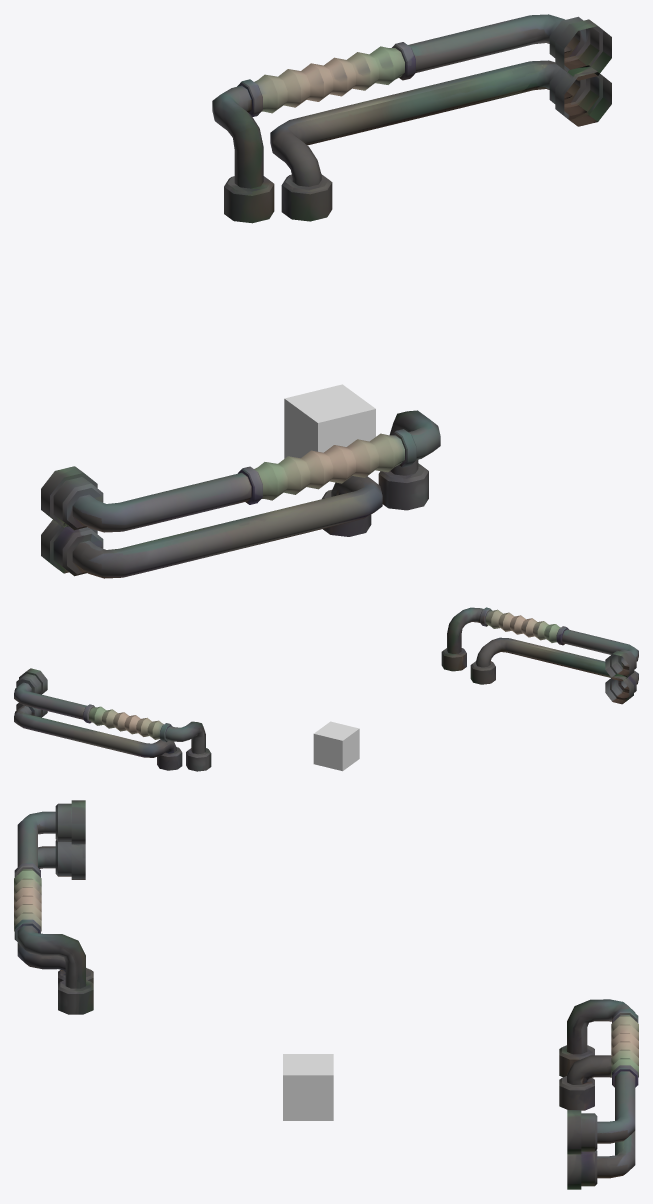
The model's file is battlescence-4-pipe1.fbx.
3 renders of one model, top to bottom at view 1: azimuth 30°, elevation 25°; view 2: azimuth 150°, elevation 25°; view 3: azimuth 270°, elevation 25°, orthographic. The views are drawn at different scales.
Parts seen in each view (by area): view 1: Plane.039, Plane.044, battlescence-4-pipe1; view 2: Plane.044, Plane.039, battlescence-4-pipe1; view 3: Plane.039, Plane.044, battlescence-4-pipe1.
Boxes of the visible parts, left/top/right/bottom form: Plane.039: left=212, top=14, right=611, bottom=223; Plane.044: left=41, top=410, right=440, bottom=578; battlescence-4-pipe1: left=284, top=384, right=375, bottom=458; Plane.044: left=441, top=607, right=638, bottom=704; Plane.039: left=14, top=668, right=211, bottom=771; battlescence-4-pipe1: left=313, top=721, right=359, bottom=771; Plane.039: left=559, top=999, right=638, bottom=1189; Plane.044: left=14, top=800, right=93, bottom=1014; battlescence-4-pipe1: left=283, top=1054, right=333, bottom=1120.
Bounding box in the file's own units: 1897 × 417 × 1530.
